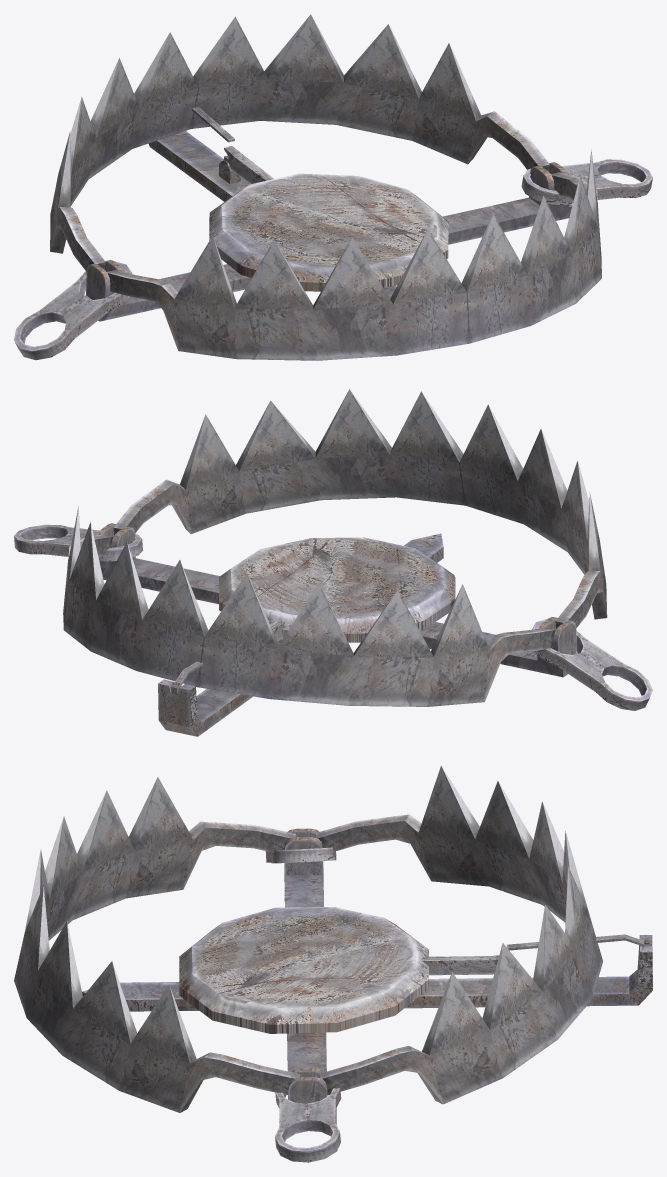
3 views of the same model, one above another, from view 1: azimuth 30°, elevation 25°; view 2: azimuth 150°, elevation 25°; view 3: azimuth 270°, elevation 25° (orthographic). The views are drawn at different scales.
Visible parts, largest first — view 1: Trap_LeftSide, Trap_RightSide, Trap_Center, Trap_Cross, Trap_1, Trap_4; view 2: Trap_RightSide, Trap_LeftSide, Trap_Center, Trap_Cross, Trap_1; view 3: Trap_RightSide, Trap_LeftSide, Trap_Center, Trap_Cross, Trap_1, Trap_4.
Part boxes in pixels (x1,y1,x2,y2): Trap_LeftSide: (107, 149, 601, 360); Trap_RightSide: (50, 14, 549, 271); Trap_Center: (209, 173, 448, 291); Trap_Cross: (84, 130, 572, 321); Trap_1: (14, 159, 652, 360); Trap_4: (223, 146, 273, 183); Trap_RightSide: (63, 506, 555, 706); Trap_LeftSide: (113, 389, 607, 628); Trap_Center: (219, 537, 455, 642); Trap_Cross: (98, 523, 577, 736); Trap_1: (14, 524, 652, 710); Trap_RightSide: (316, 765, 602, 1104); Trap_LeftSide: (14, 777, 299, 1112); Trap_Center: (179, 907, 428, 1033); Trap_Cross: (82, 828, 652, 1103); Trap_1: (265, 847, 341, 1162); Trap_4: (422, 954, 513, 975).
Size of the model in its own units: 149 by 36.75 by 124.
Materials: 1 (1 with a texture image).
